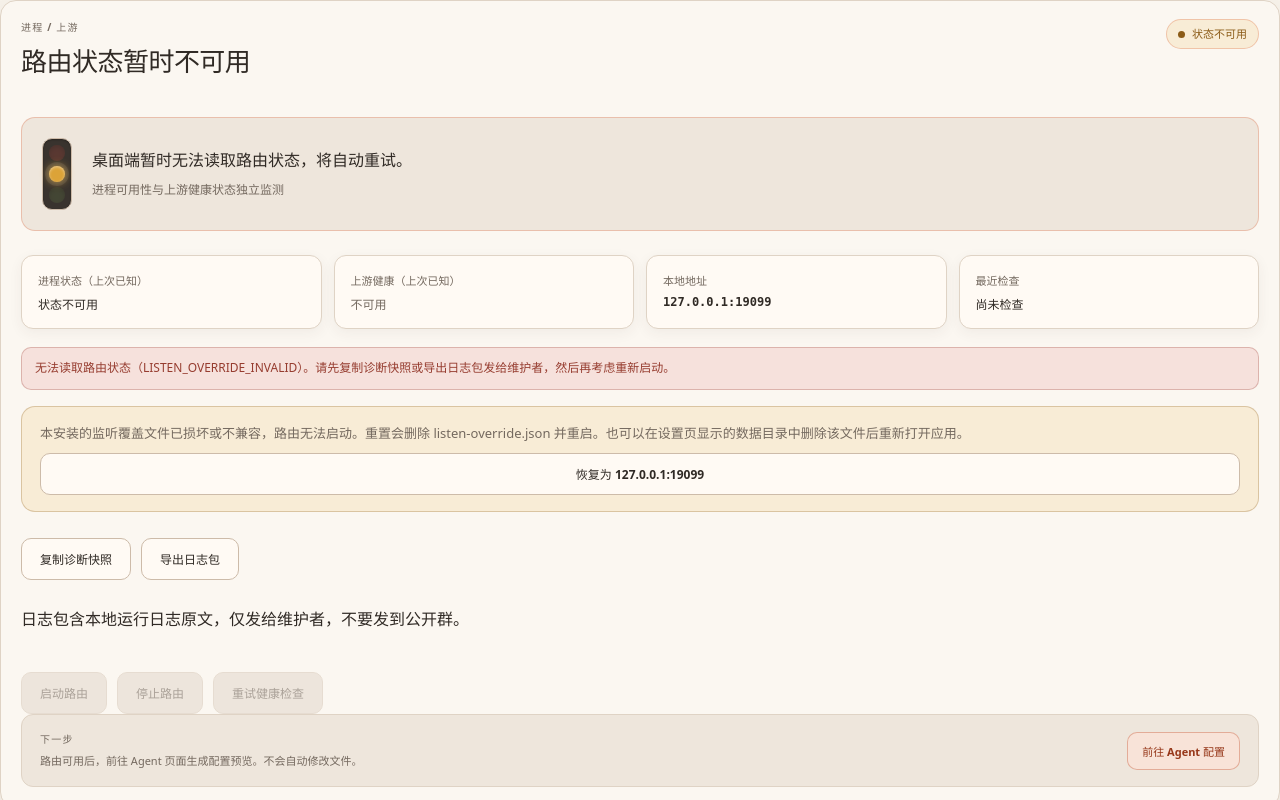
RouterPage states › offers reset when listen-override.json is invalid and status is unavailable
expect the heading "路由状态暂时不可用" is shown: met, box x1=21 y1=41 x2=250 y2=79
expect the text "监听覆盖文件已损坏或不兼容" is shown: met, box x1=40 y1=424 x2=970 y2=442
What coordinates should you click on to do the following:
click the button "恢复为 127.0.0.1:19099"
I would click on:
 (640, 474)
Its box is x1=40 y1=453 x2=1240 y2=495.
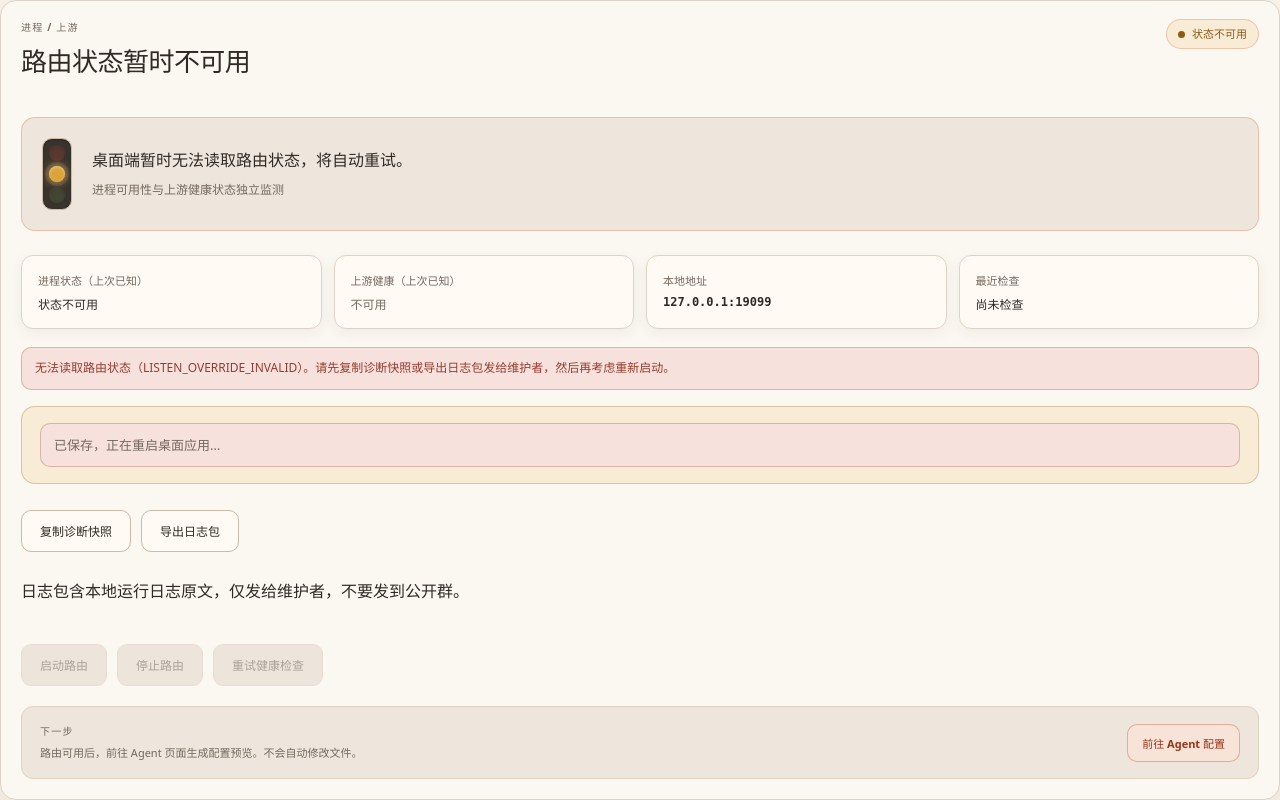
expect the text "已保存，正在重启桌面应用…" is shown: met, box x1=40 y1=423 x2=1240 y2=467
